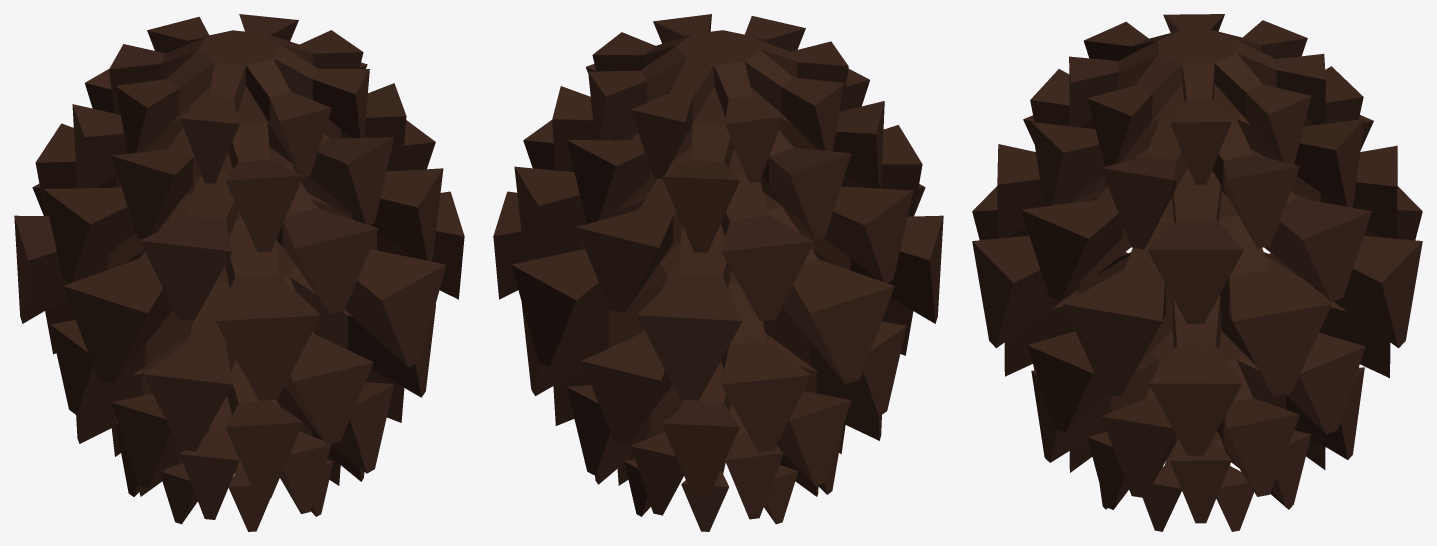
The model's file is Pine cone.fbx.
The picture shows the model from 3 angles, left to right: view 1: azimuth 30°, elevation 25°; view 2: azimuth 150°, elevation 25°; view 3: azimuth 270°, elevation 25°; orthographic projection.
Parts seen in each view (by area): view 1: Pine_Cone; view 2: Pine_Cone; view 3: Pine_Cone.
Boxes of the visible parts, x1,y1,x2,y2 form: Pine_Cone: (14,14,464,531); Pine_Cone: (493,14,943,531); Pine_Cone: (972,14,1422,531).
Size of the model in its own units: 157 by 171 by 157.
